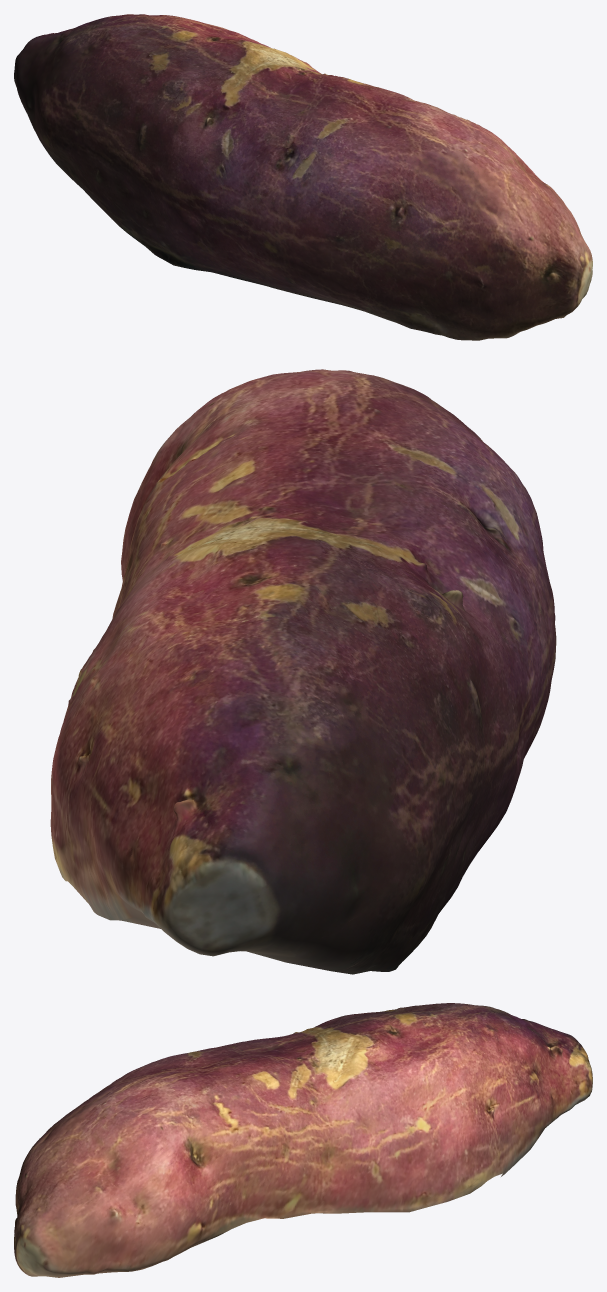
3 renders of one model, top to bottom at view 1: azimuth 30°, elevation 25°; view 2: azimuth 150°, elevation 25°; view 3: azimuth 270°, elevation 25°, orthographic. The views are drawn at different scales.
Visible parts, largest first — view 1: baked_mesh_3a4c647d; view 2: baked_mesh_3a4c647d; view 3: baked_mesh_3a4c647d.
Part boxes in pixels (left/top/right/bottom): baked_mesh_3a4c647d: left=14, top=14, right=592, bottom=340; baked_mesh_3a4c647d: left=50, top=369, right=556, bottom=974; baked_mesh_3a4c647d: left=14, top=1003, right=592, bottom=1277.
Size of the model in its own units: 0.5363 by 0.3184 by 0.8634.
Materials: 1 (1 with a texture image).
